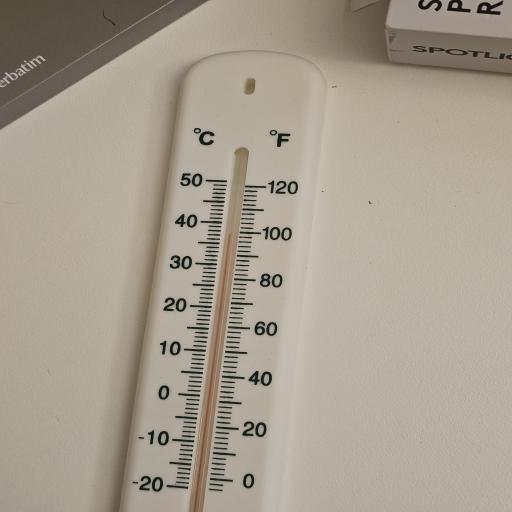thermometer: (118, 50, 330, 512)
